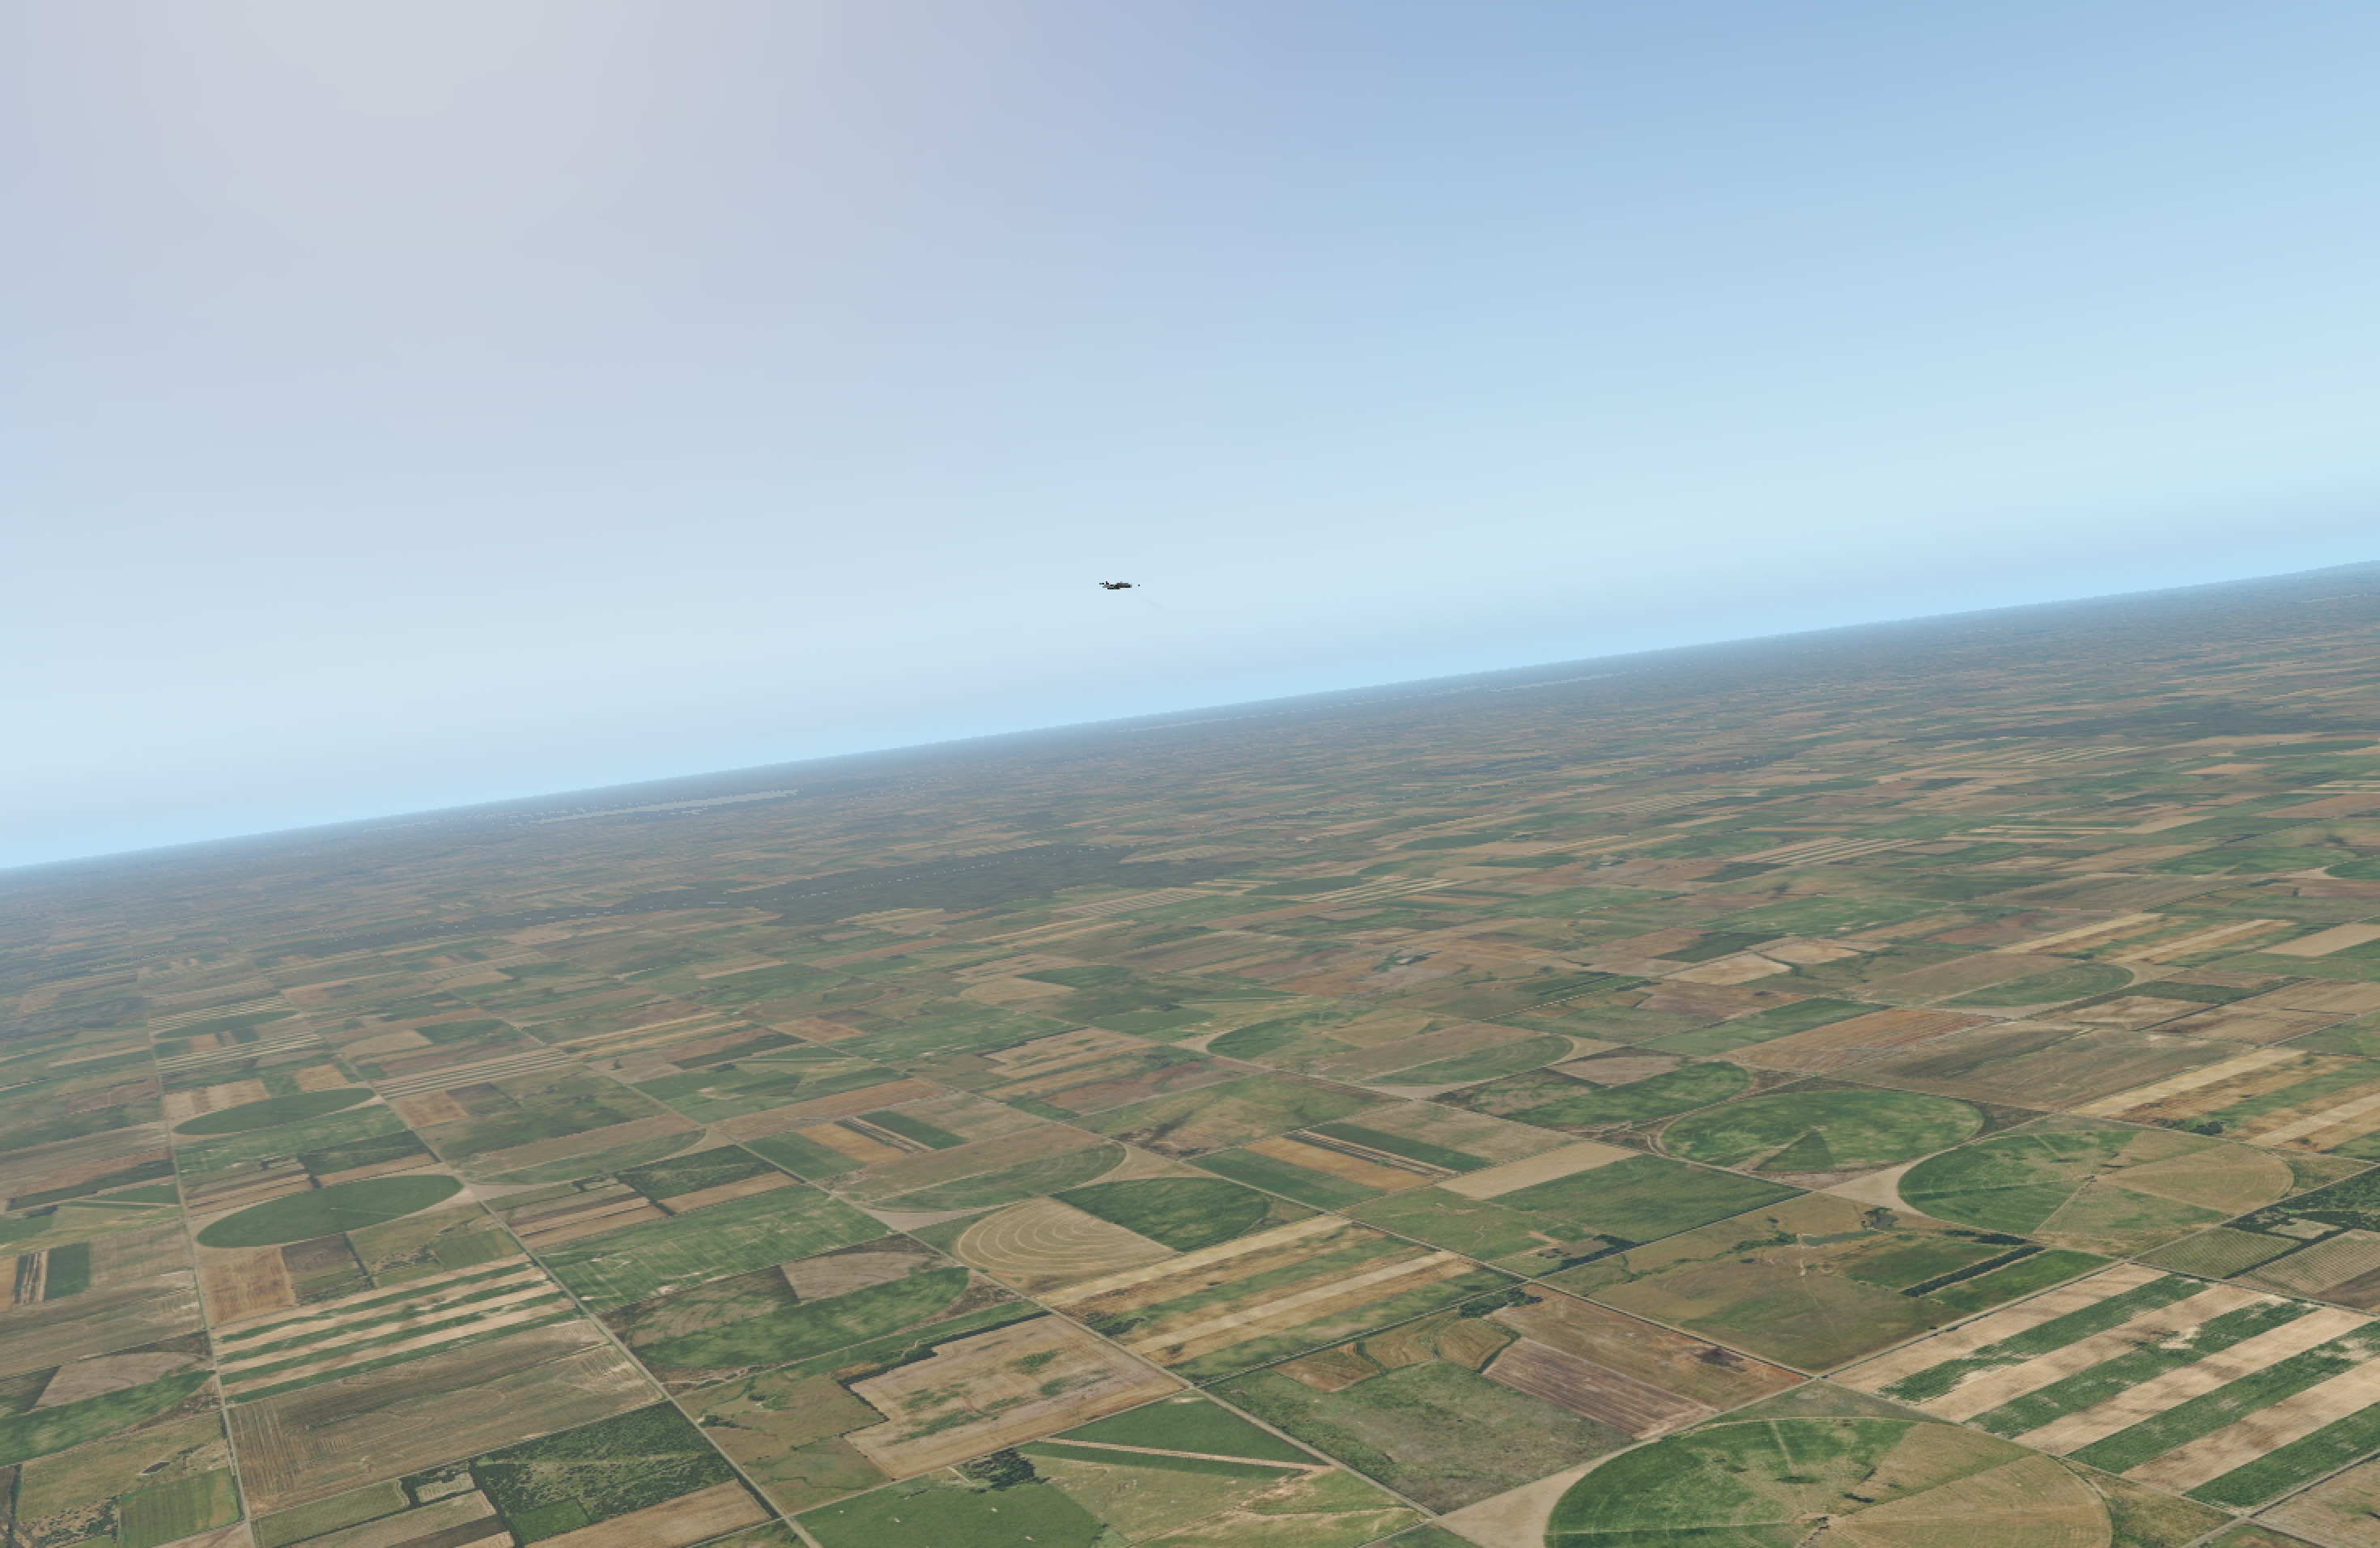aircraft: (1096, 578, 1147, 597)
